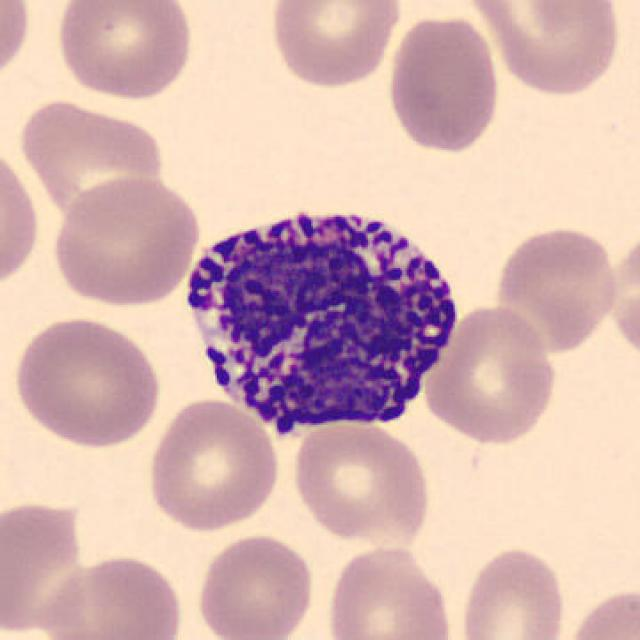Basophil: (171, 187, 471, 448)
RBC: (9, 312, 165, 451), (48, 171, 203, 309), (420, 300, 560, 446), (16, 94, 167, 228), (144, 395, 283, 534), (288, 418, 434, 548), (382, 10, 503, 157), (491, 220, 622, 352), (458, 0, 626, 97), (51, 0, 197, 102), (34, 550, 188, 640), (192, 530, 318, 640), (0, 498, 96, 640), (322, 543, 458, 640), (265, 0, 405, 92), (455, 543, 571, 640), (0, 135, 44, 294), (595, 234, 640, 355), (560, 582, 638, 640), (0, 0, 34, 90)
